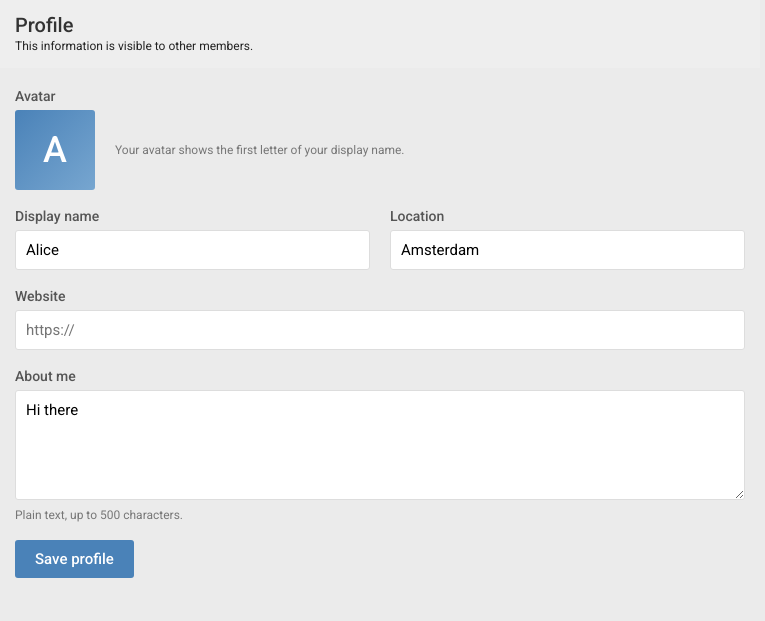
Test: profile: clearing an optional field sends null
The image size is (765, 621).
Clear the field labelled "Location" at (568, 250), box [390, 230, 745, 270]
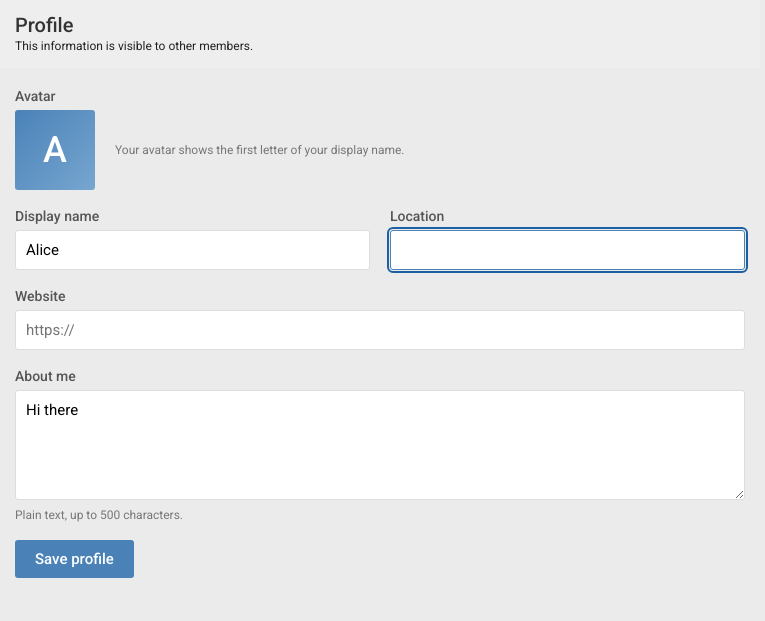
Click the button "Save profile".
click(74, 559)  # box [15, 540, 134, 578]
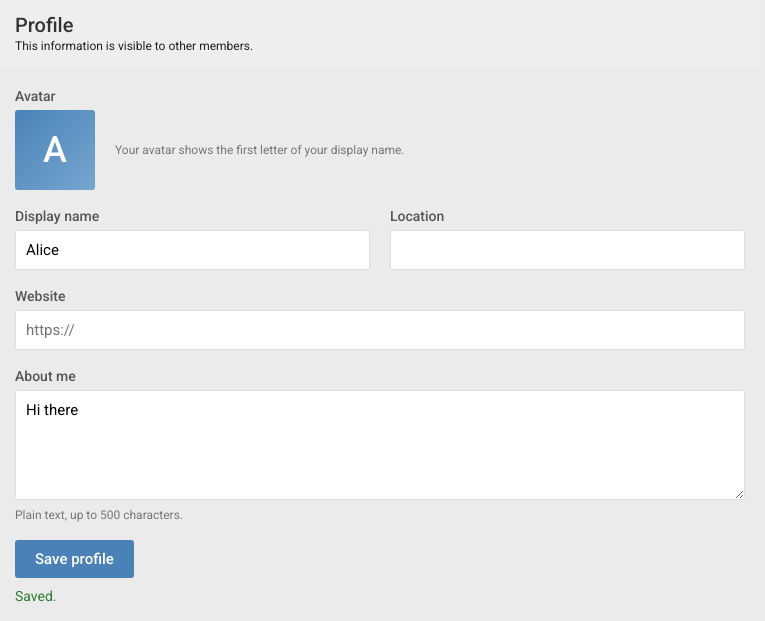
Check: the text "Saved." is shown, box [15, 588, 56, 604]
